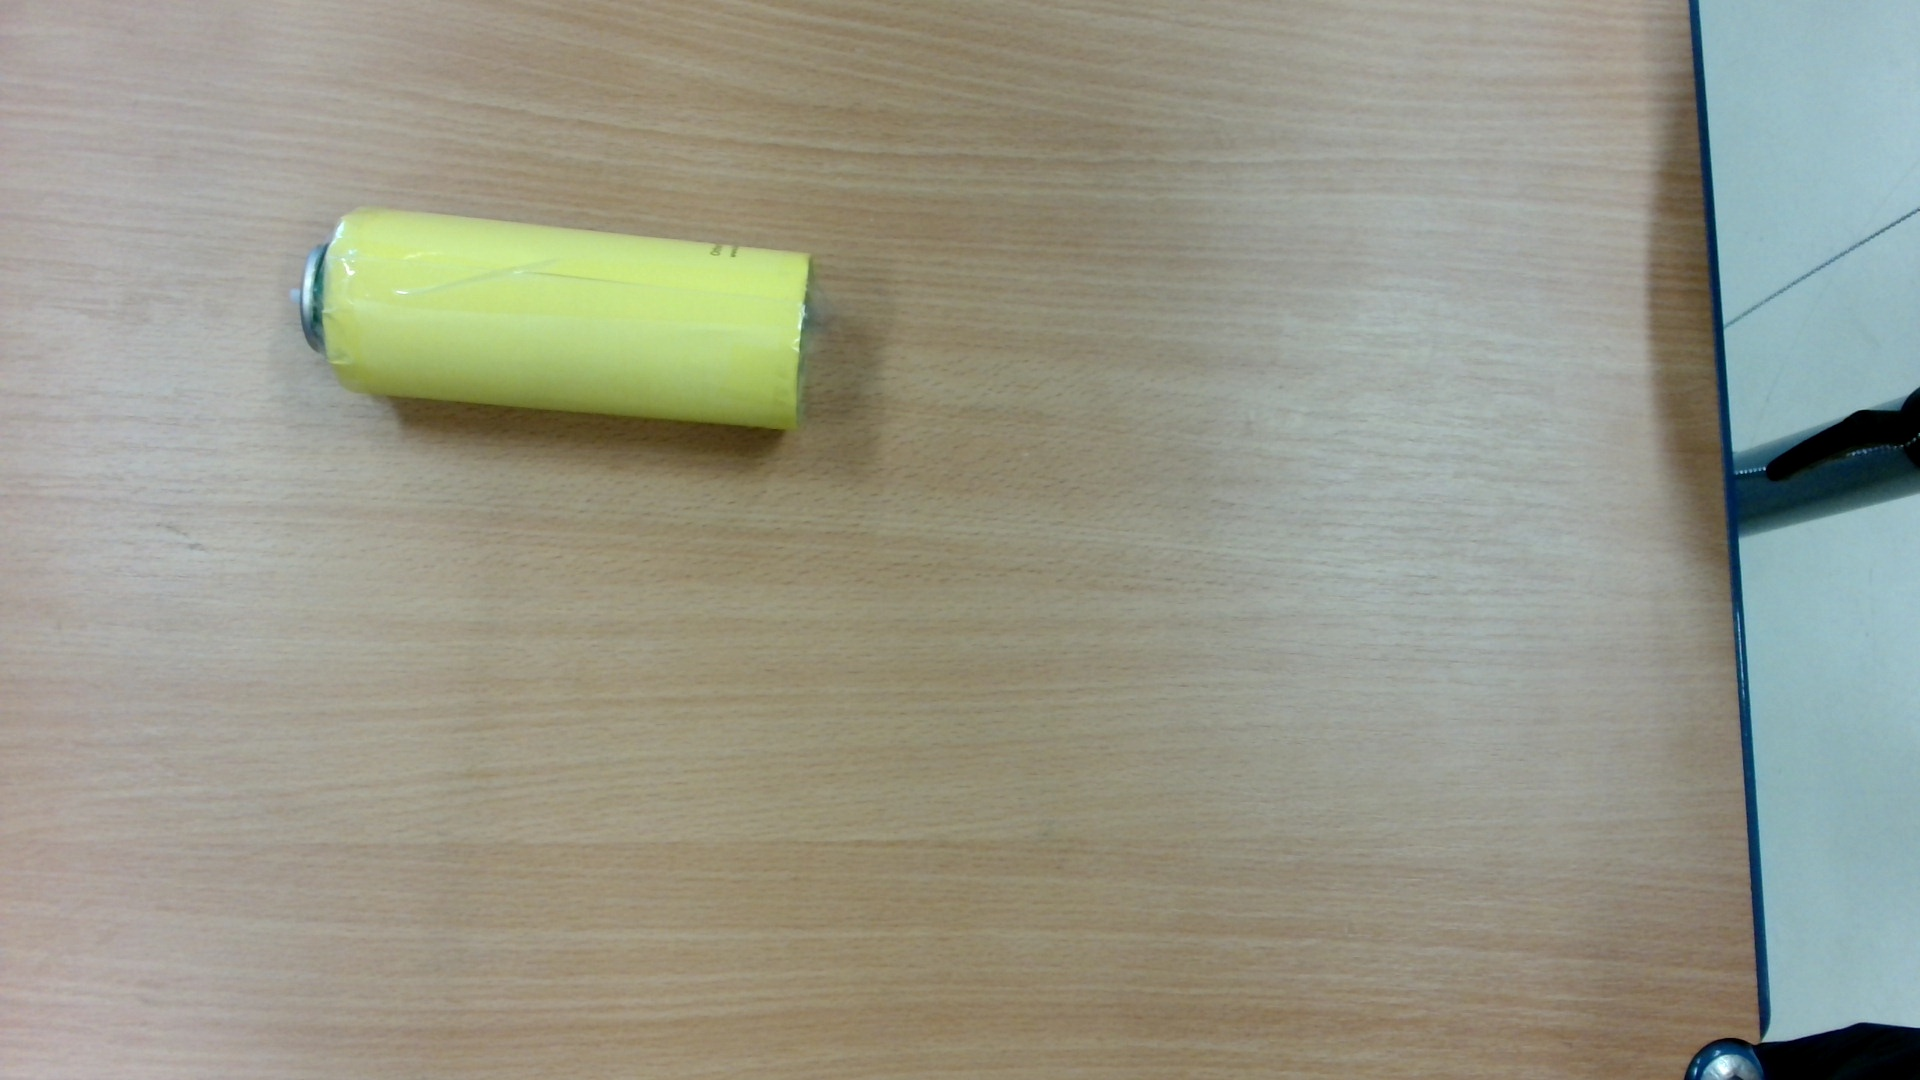Cylinder: (280, 200, 839, 456)
